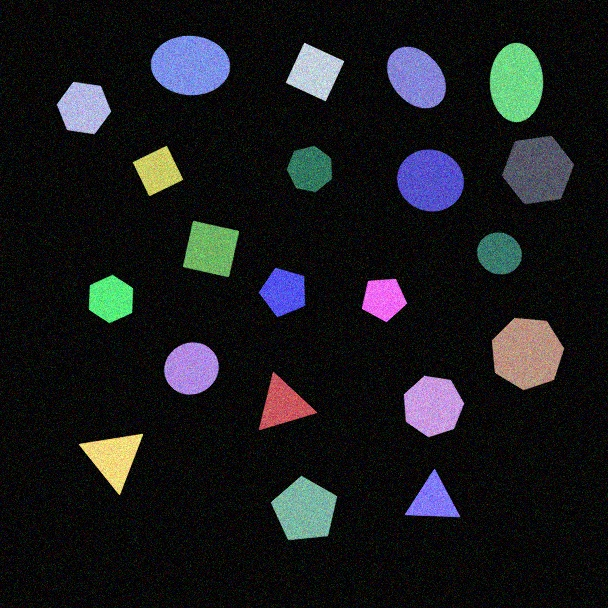Circulo: (396, 149, 465, 212), (163, 342, 220, 395), (476, 232, 523, 275)
Elipse: (150, 35, 231, 96), (489, 42, 544, 123), (386, 46, 447, 109)
Heptagono: (491, 317, 565, 391), (403, 375, 465, 438), (286, 145, 333, 193)
Hexagono: (501, 135, 575, 205), (56, 81, 112, 135), (88, 274, 134, 324)
Pentagono: (270, 475, 338, 541), (258, 267, 306, 318), (361, 278, 408, 323)
Quadrado: (285, 42, 345, 102), (182, 220, 240, 278), (132, 145, 184, 197)
Triangulo: (78, 433, 144, 496), (258, 371, 318, 431), (404, 469, 461, 518)
